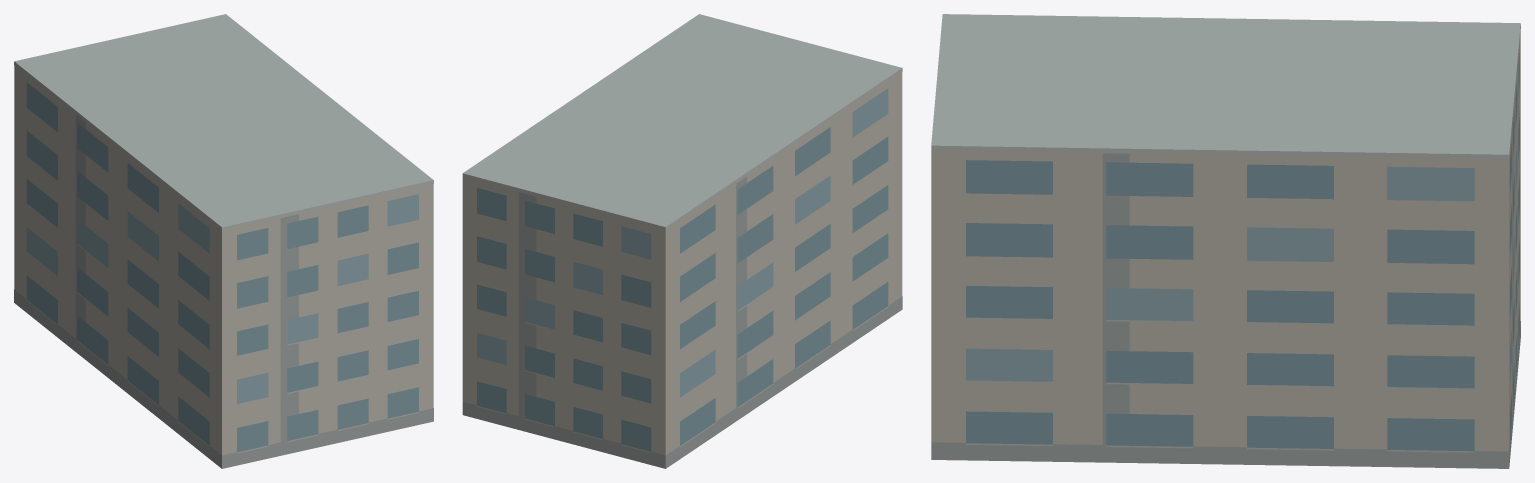
Rendered from residential-5f296557-5cd6-42dc-8945-408a36dbea22.glb.
3 views of the same model, side by side, from view 1: azimuth 30°, elevation 25°; view 2: azimuth 150°, elevation 25°; view 3: azimuth 270°, elevation 25° (orthographic). The views are drawn at different scales.
Parts seen in each view (by area): view 1: residential-5f296557-5cd6-42dc-8945-408a36dbea22.tmp; view 2: residential-5f296557-5cd6-42dc-8945-408a36dbea22.tmp; view 3: residential-5f296557-5cd6-42dc-8945-408a36dbea22.tmp.
Part boxes in pixels (bbox=[...]): residential-5f296557-5cd6-42dc-8945-408a36dbea22.tmp: bbox=[14, 14, 433, 468]; residential-5f296557-5cd6-42dc-8945-408a36dbea22.tmp: bbox=[462, 14, 902, 468]; residential-5f296557-5cd6-42dc-8945-408a36dbea22.tmp: bbox=[931, 14, 1520, 468].
Size of the model in its own units: 14.66 by 15.25 by 25.95.
